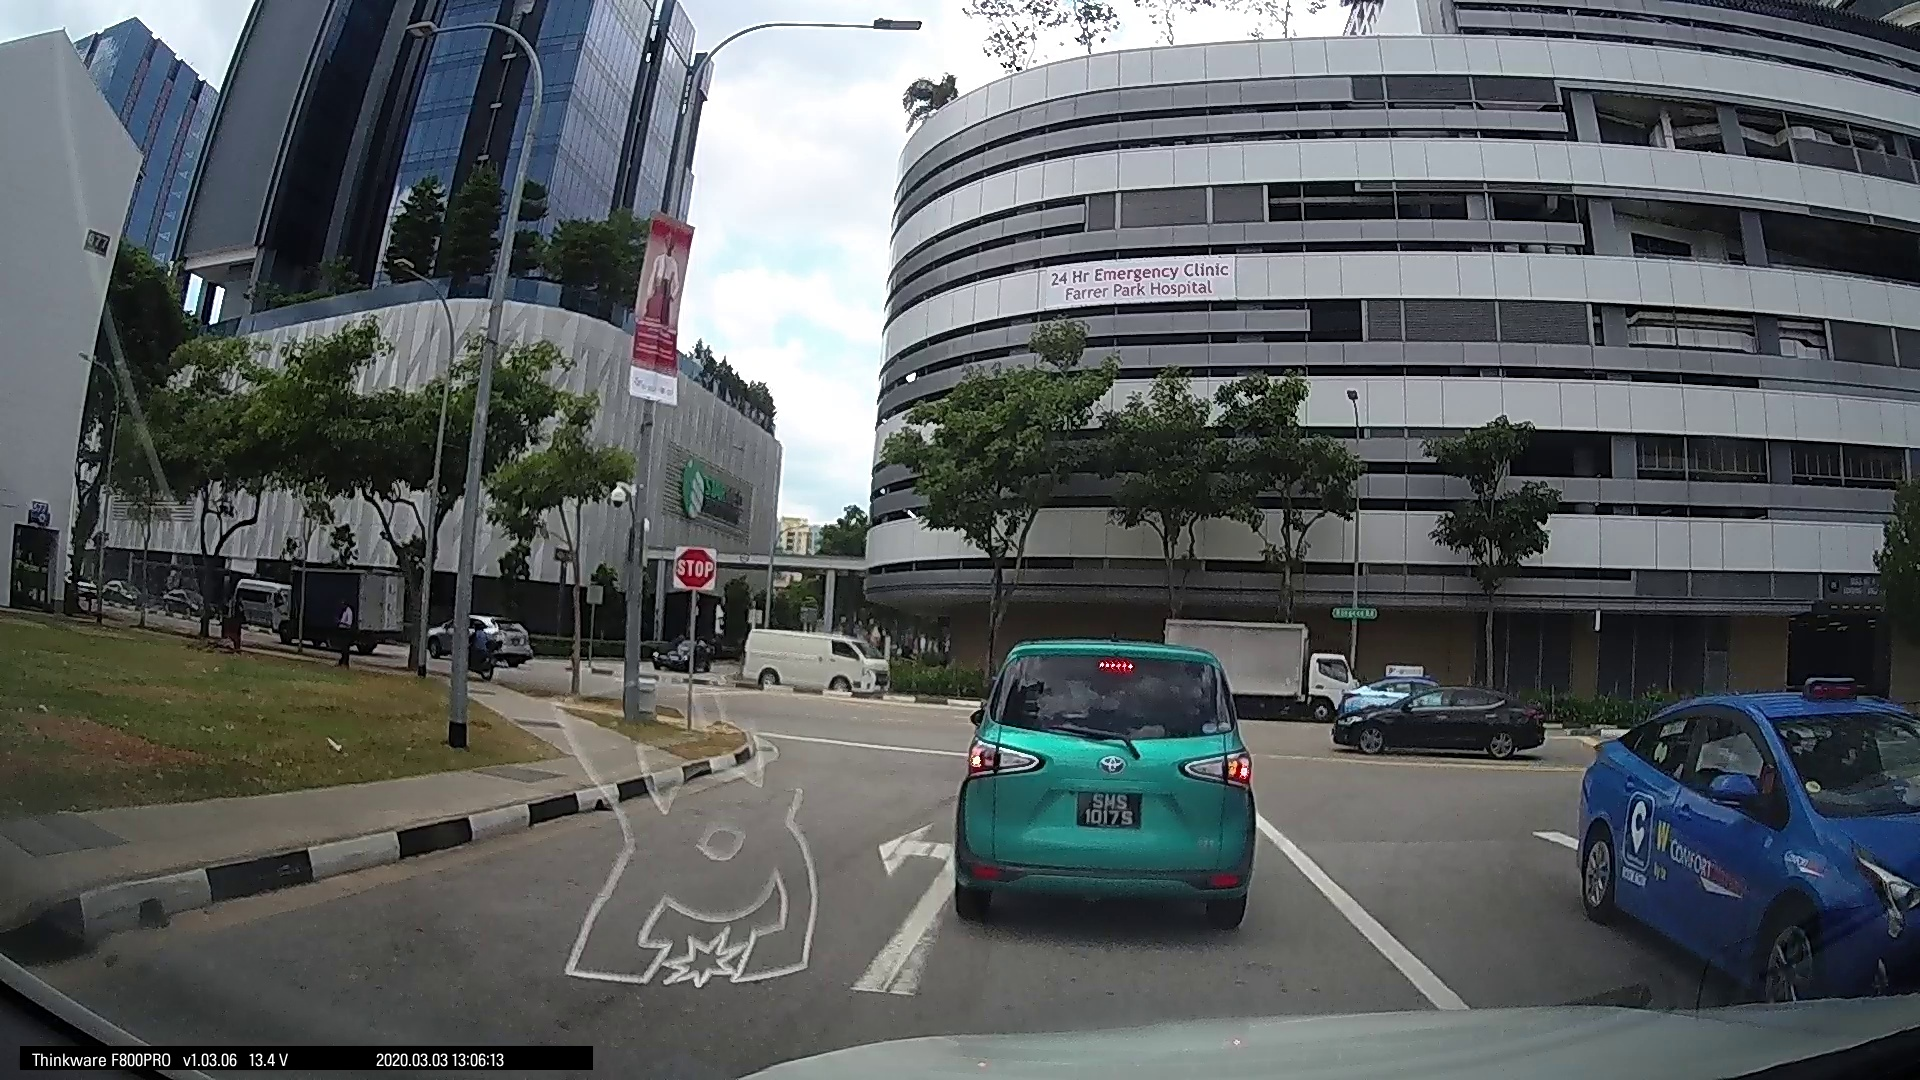Light Vehicle: (1569, 688, 1919, 1013), (944, 622, 1263, 932), (1331, 673, 1539, 757), (728, 622, 887, 696), (440, 609, 531, 671)
